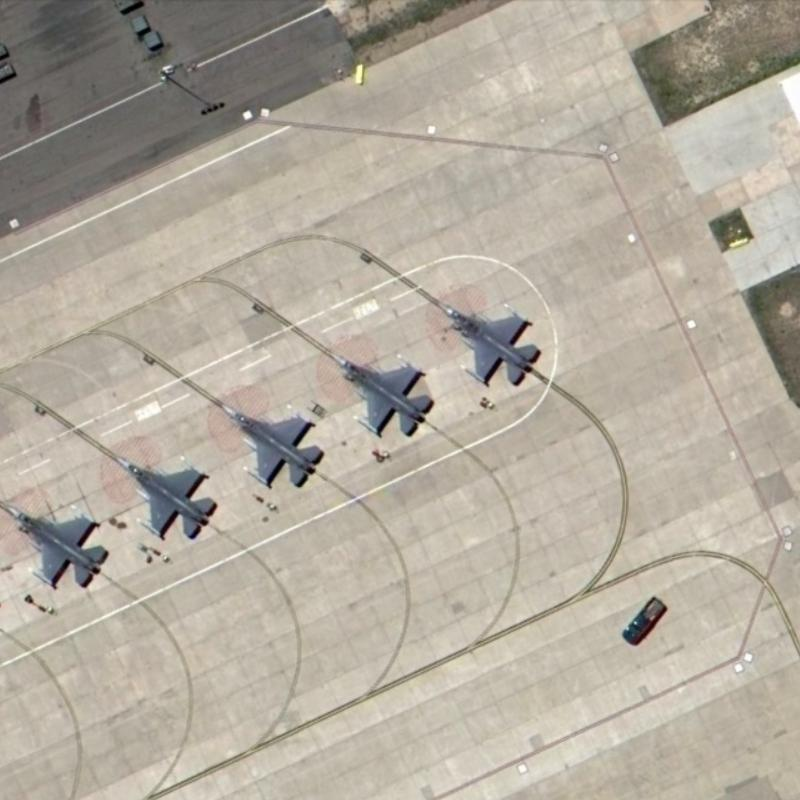A5: (310, 336, 438, 443), (214, 385, 332, 495), (421, 286, 544, 391), (105, 438, 218, 545), (2, 501, 112, 597)
